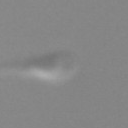normal: (1, 59, 31, 80)
